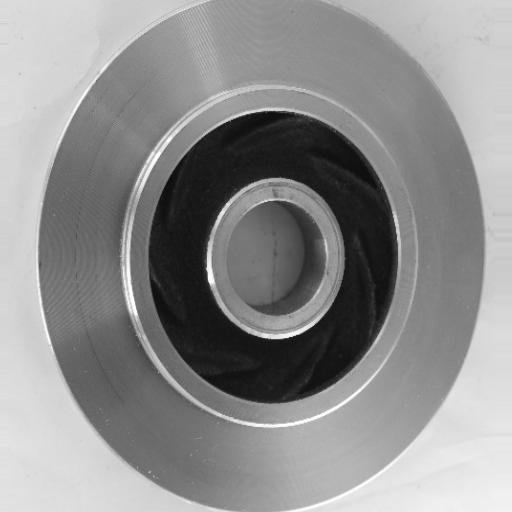polished_casting: (37, 0, 487, 512)
